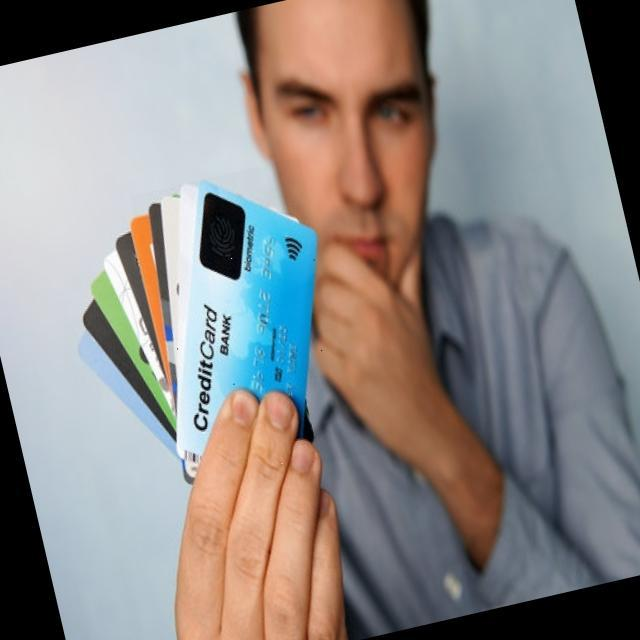payment_card: (173, 179, 318, 481)
